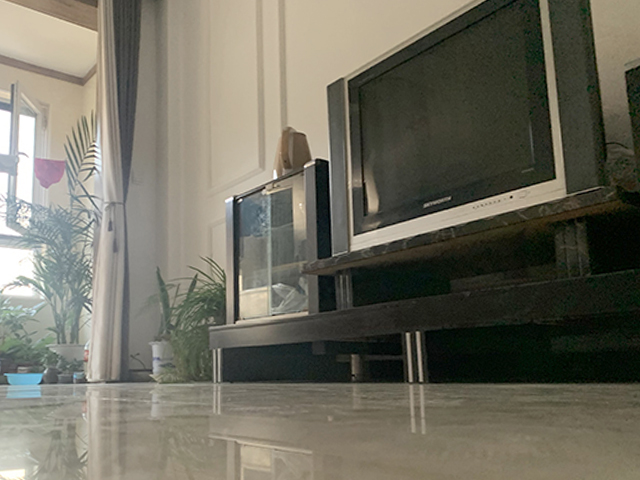cabinet: (207, 183, 639, 387)
curtain: (85, 1, 143, 383)
